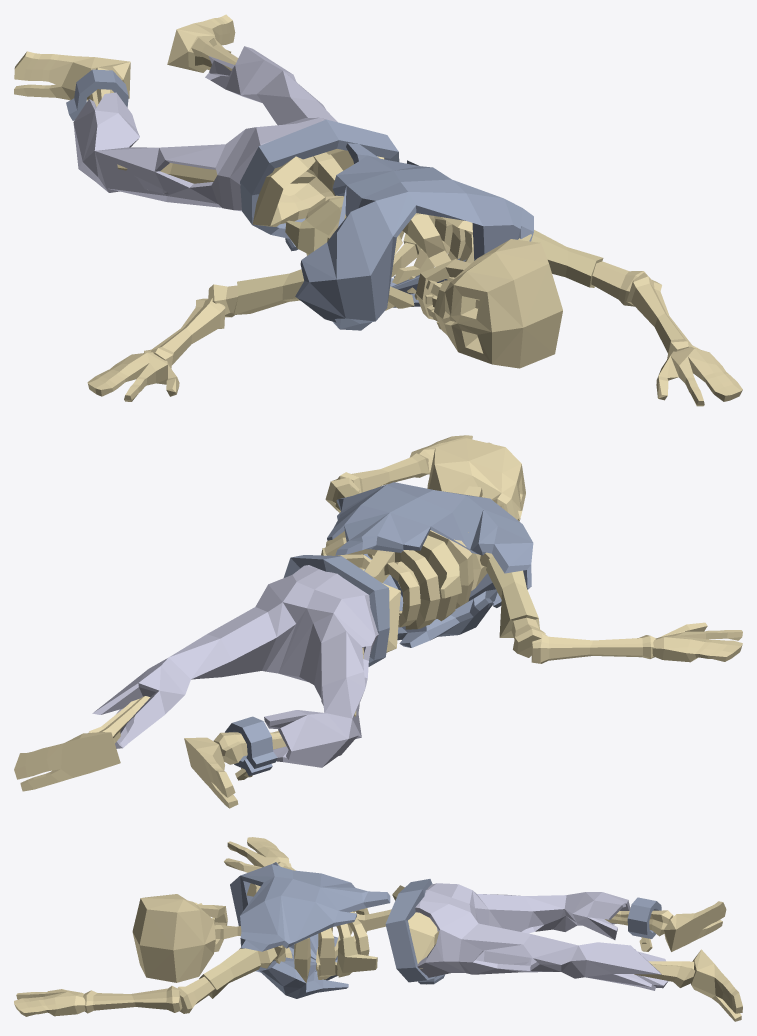
Rendered from Slave_00.FBX.
3 renders of one model, top to bottom at view 1: azimuth 30°, elevation 25°; view 2: azimuth 150°, elevation 25°; view 3: azimuth 270°, elevation 25°, orthographic. The views are drawn at different scales.
Visible parts, largest first — view 1: Slave_00; view 2: Slave_00; view 3: Slave_00.
Boxes of the visible parts, x1=… form: Slave_00: x1=14, y1=14, x2=742, y2=406; Slave_00: x1=14, y1=435, x2=742, y2=808; Slave_00: x1=14, y1=837, x2=742, y2=1021.
Bounding box in the file's own units: 130 × 33.55 × 221.
